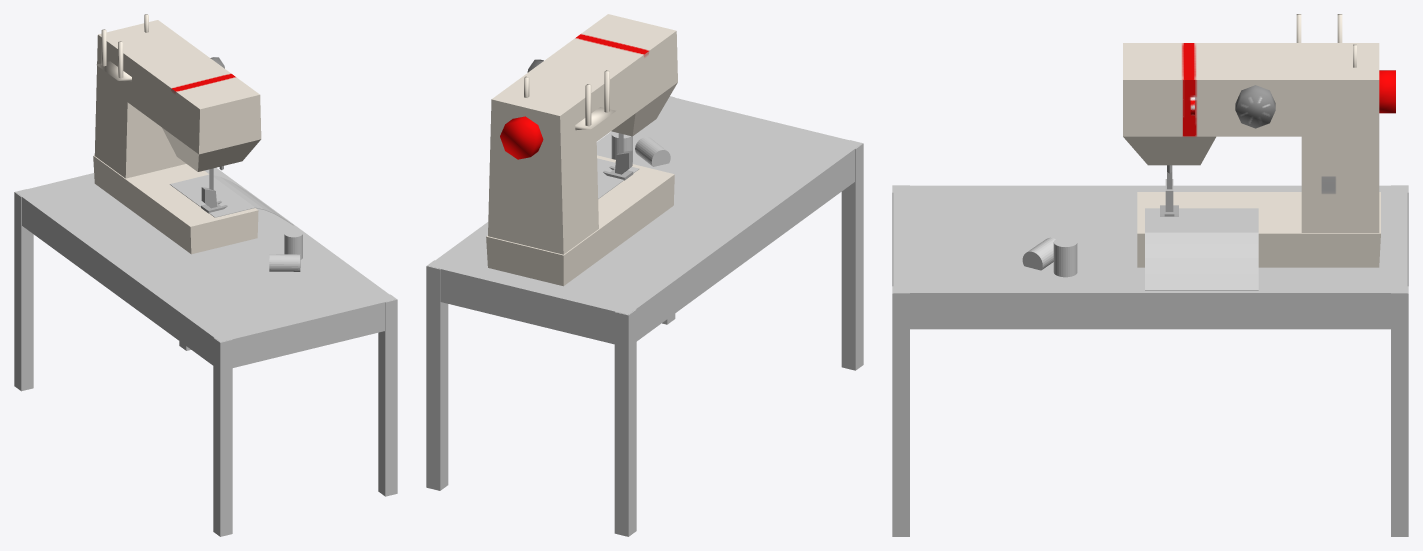
File: First Level Machine.fbx
The picture shows the model from 3 angles, left to right: view 1: azimuth 30°, elevation 25°; view 2: azimuth 150°, elevation 25°; view 3: azimuth 270°, elevation 25°; orthographic projection. The views are drawn at different scales.
Visible parts, largest first — view 1: Cube, Base_low, Plane, Cylinder.001, SewKeeper_low, Cylinder; view 2: Cube, Base_low, Cylinder.001, SewKeeper_low, Plane; view 3: Cube, Base_low, Plane, Cylinder, Cylinder.001.
Part boxes in pixels (x1,y1,x2,y2): Cube: [14, 167, 397, 536]; Base_low: [93, 14, 261, 254]; Plane: [169, 174, 293, 225]; Cylinder.001: [269, 254, 300, 271]; SewKeeper_low: [201, 168, 227, 213]; Cylinder: [284, 229, 302, 259]; Cube: [426, 96, 863, 536]; Base_low: [486, 14, 677, 286]; Cylinder.001: [635, 137, 670, 166]; SewKeeper_low: [603, 133, 633, 180]; Plane: [597, 158, 639, 198]; Cube: [892, 185, 1408, 536]; Base_low: [1123, 14, 1395, 267]; Plane: [1145, 208, 1258, 290]; Cylinder: [1053, 237, 1077, 277]; Cylinder.001: [1022, 237, 1055, 270].
Size of the model in its own units: 452 by 878 by 909.
